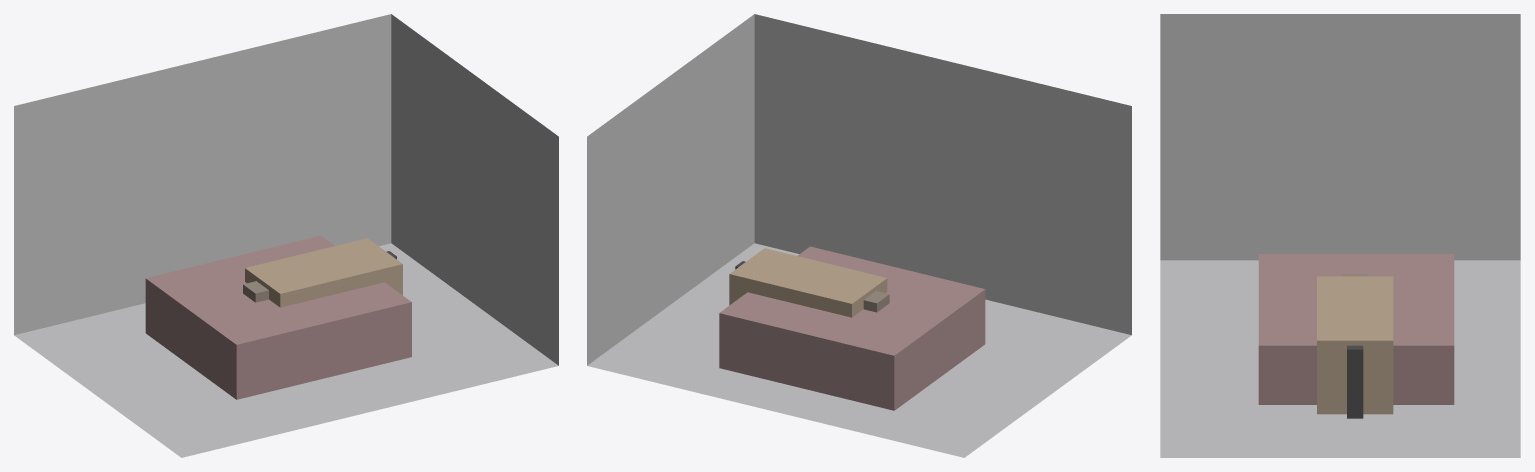
File: current_layout.glb
3 views of the same model, side by side, from view 1: azimuth 30°, elevation 25°; view 2: azimuth 150°, elevation 25°; view 3: azimuth 270°, elevation 25° (orthographic). The views are drawn at different scales.
Parts seen in each view (by area): view 1: room, bed, desk; view 2: room, bed, desk; view 3: room, bed, desk, tv.
Part boxes in pixels (box(x1,y1,x2,y2)): room: box(14, 14, 558, 457); bed: box(145, 235, 411, 399); desk: box(245, 238, 402, 307); room: box(587, 14, 1131, 457); bed: box(719, 246, 985, 410); desk: box(729, 248, 887, 317); room: box(1160, 14, 1520, 457); bed: box(1258, 254, 1454, 404); desk: box(1317, 276, 1393, 414); tv: box(1347, 345, 1363, 418).
Size of the model in its own units: 4.31 by 2.5 by 3.31.
